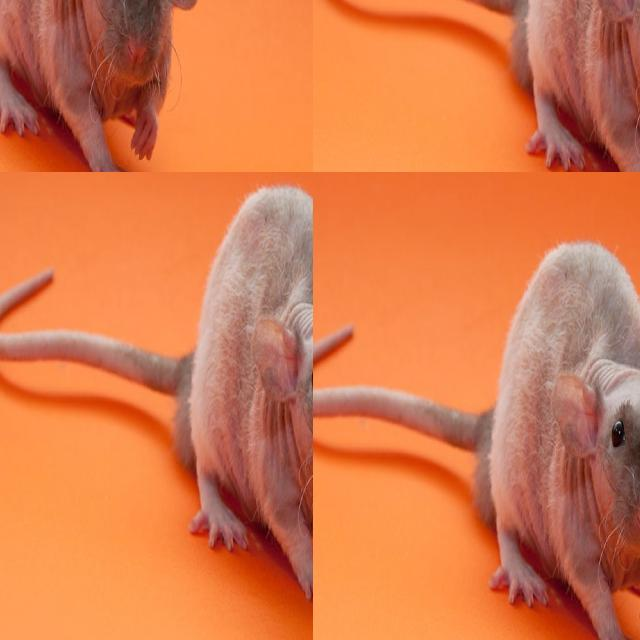rat: (474, 237, 640, 640)
